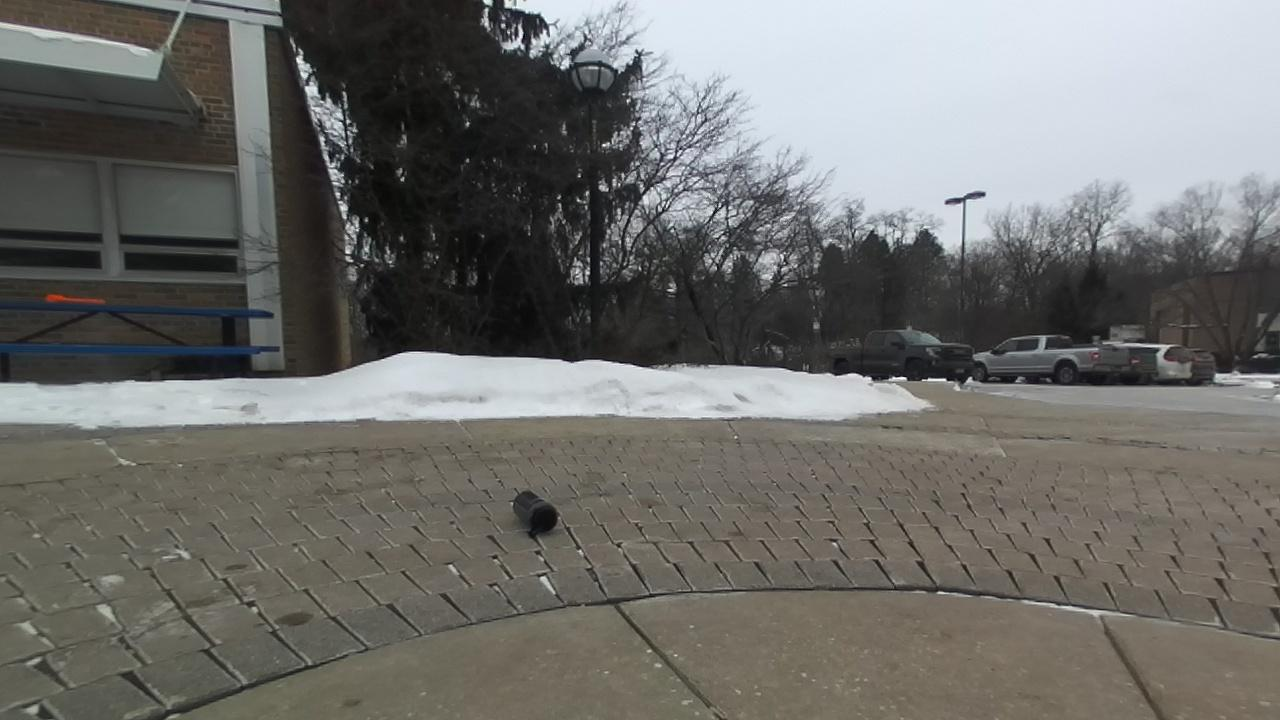bottle: (512, 491, 559, 538)
